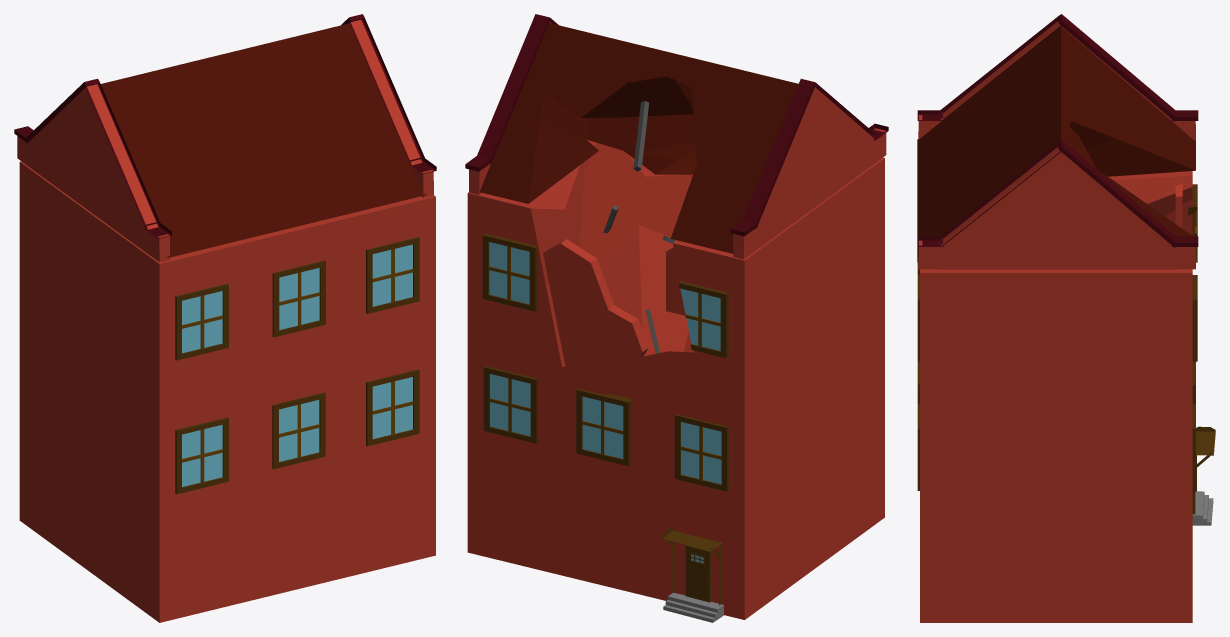
Rendered from prosty3.fbx.
3 renders of one model, left to right at view 1: azimuth 30°, elevation 25°; view 2: azimuth 150°, elevation 25°; view 3: azimuth 270°, elevation 25°, orthographic. The views are drawn at different scales.
Parts seen in each view (by area): view 1: Cube.118, Cube.057, Cube.014, Cube.116, Cube.100, Cube.099, Cube.105, Cube.111, Cube.112, Cube.106, Cube.113, Cube.107 (+4 smaller); view 2: Cube.118, Cube.057, Cube.014, Cube.122, Cube.116, Cube.125, Cube.225, Cube.070, Cube.221, Cube.093, Cube.094, Cube.220 (+4 smaller); view 3: Cube.118, Cube.057, Cube.014, Cube.116, Cube.125, Cube.220.
Part boxes in pixels (x1,y1,x2,y2): Cube.118: (19, 161, 435, 622); Cube.057: (100, 23, 425, 257); Cube.014: (17, 19, 433, 262); Cube.116: (14, 14, 436, 238); Cube.100: (182, 291, 222, 353); Cube.099: (182, 424, 222, 486); Cube.105: (372, 244, 412, 306); Cube.111: (279, 400, 319, 461); Cube.112: (279, 268, 319, 329); Cube.106: (372, 377, 412, 438); Cube.113: (272, 260, 325, 337); Cube.107: (366, 369, 419, 446); Cube.118: (467, 140, 884, 619); Cube.057: (479, 23, 798, 253); Cube.014: (469, 22, 886, 259); Cube.122: (543, 239, 685, 366); Cube.116: (465, 14, 888, 236); Cube.125: (662, 527, 723, 622); Cube.225: (678, 281, 728, 358); Cube.070: (582, 396, 623, 458); Cube.221: (489, 242, 529, 304); Cube.093: (490, 374, 530, 436); Cube.094: (681, 422, 721, 484); Cube.220: (482, 233, 540, 311); Cube.118: (920, 171, 1192, 622); Cube.057: (917, 26, 1195, 262); Cube.014: (918, 21, 1195, 269); Cube.116: (917, 14, 1198, 247); Cube.125: (1192, 426, 1215, 525); Cube.220: (1192, 275, 1197, 361).
Bounding box in the file's own units: 408 × 682 × 387.
Materials: 43 (43 with a texture image).
